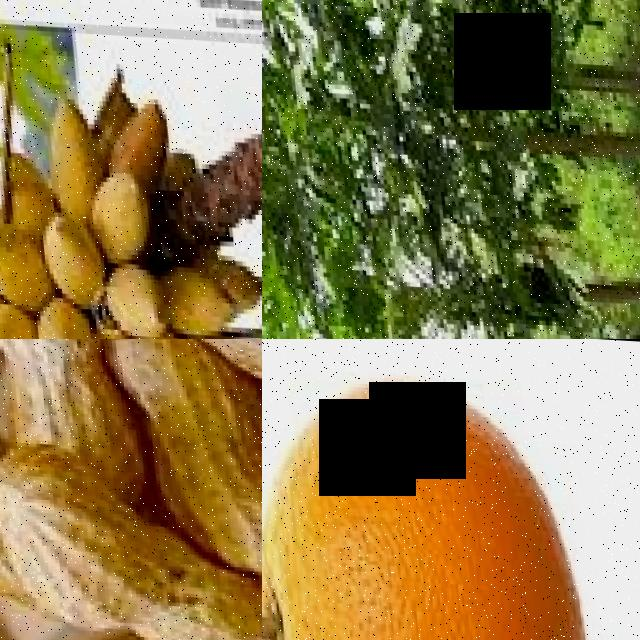orange: (262, 358, 603, 640)
peanuts: (0, 434, 133, 633), (141, 391, 262, 566), (91, 550, 262, 640), (0, 339, 110, 439)
